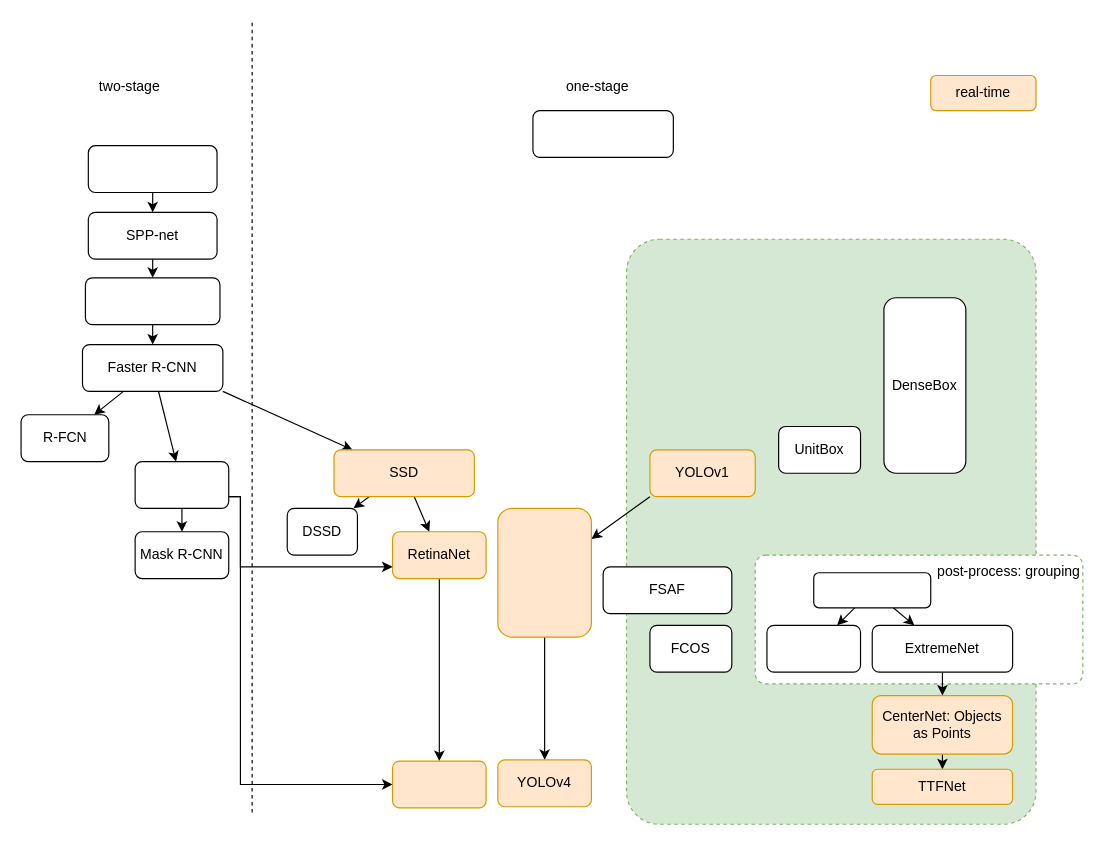
This 1103x845 diagram has some shape labels left out. Here are the shapes that lost their labels. From the top down, the box of each, then its label:
(532, 109, 673, 157): OverFeat
(87, 144, 217, 192): R-CNN
(84, 277, 220, 325): Fast R-CNN
(134, 460, 229, 508): FPN
(625, 238, 1036, 824): Anchor-Free
(497, 507, 591, 637): YOLOv2,3
(813, 572, 931, 608): CornerNet
(766, 624, 861, 672): CenterNet: triplet
(391, 760, 486, 808): EfficientDet
